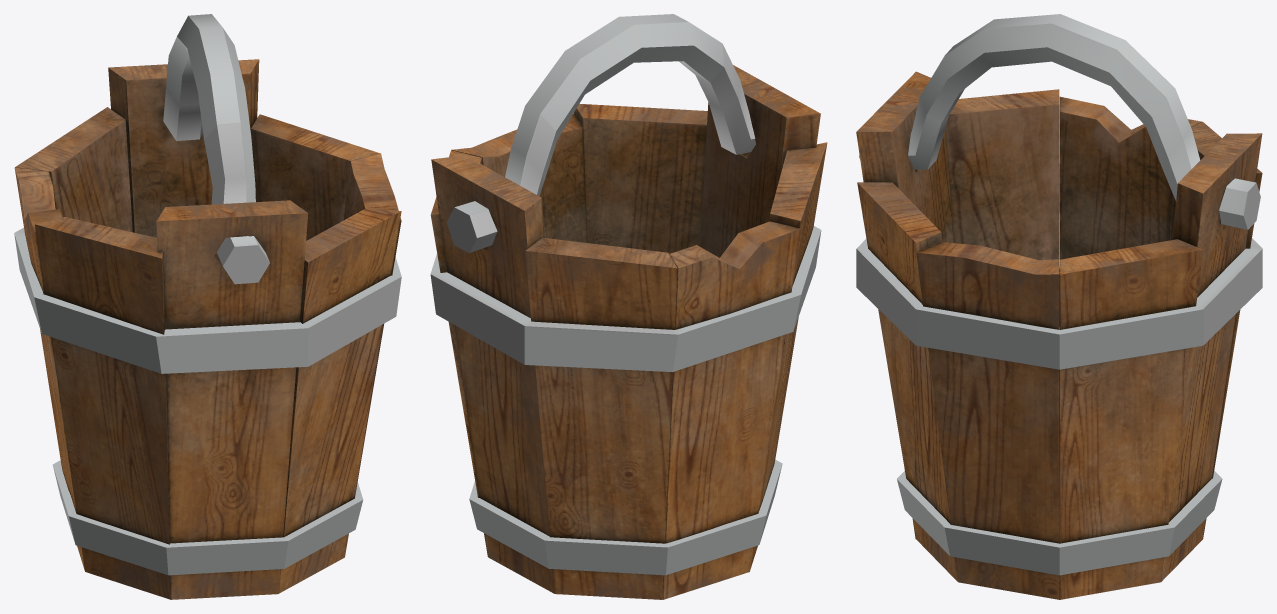
Rendered from low_poly_bucket.glb.
3 renders of one model, left to right at view 1: azimuth 30°, elevation 25°; view 2: azimuth 150°, elevation 25°; view 3: azimuth 270°, elevation 25°, orthographic.
Visible parts, largest first — view 1: wood_08, wood_02, wood_03, metal01, handle, wood_07, metal02, wood_05, wood_06, wood_01, wood_04; view 2: wood_06, wood_01, wood_07, handle, metal01, wood_03, wood_08, metal02, wood_04, wood_02, wood_05; view 3: wood_05, wood_04, handle, metal01, wood_02, wood_07, wood_01, wood_03, metal02, wood_08, wood_06.
Boxes of the visible parts, box(x1,y1,x2,y2) form: wood_08: box(156, 200, 308, 599); wood_02: box(35, 217, 171, 599); wood_03: box(279, 207, 401, 593); metal01: box(14, 227, 401, 373); handle: box(162, 14, 269, 284); wood_07: box(108, 59, 259, 254); metal02: box(52, 460, 363, 575); wood_05: box(251, 114, 380, 240); wood_06: box(15, 107, 132, 232); wood_01: box(14, 167, 85, 571); wood_04: box(344, 153, 401, 498); wood_06: box(525, 237, 677, 599); wood_01: box(663, 221, 800, 599); wood_07: box(431, 155, 554, 593); handle: box(446, 14, 755, 252); metal01: box(430, 226, 821, 371); wood_03: box(574, 103, 707, 253); wood_08: box(700, 65, 820, 257); metal02: box(469, 459, 782, 575); wood_04: box(451, 113, 586, 242); wood_02: box(750, 142, 827, 569); wood_05: box(430, 150, 487, 556); wood_05: box(1059, 239, 1202, 599); wood_04: box(916, 242, 1059, 599); handle: box(859, 14, 1260, 229); metal01: box(856, 163, 1262, 369); wood_02: box(945, 89, 1059, 260); wood_07: box(1161, 133, 1262, 581); wood_01: box(1059, 96, 1202, 259); wood_03: box(857, 182, 957, 581); metal02: box(897, 471, 1222, 575); wood_08: box(856, 71, 954, 538); wood_06: box(1166, 122, 1262, 536).
Bounding box in the file's own units: 0.3831 × 0.5427 × 0.3833.
1 material, 1 textured.
